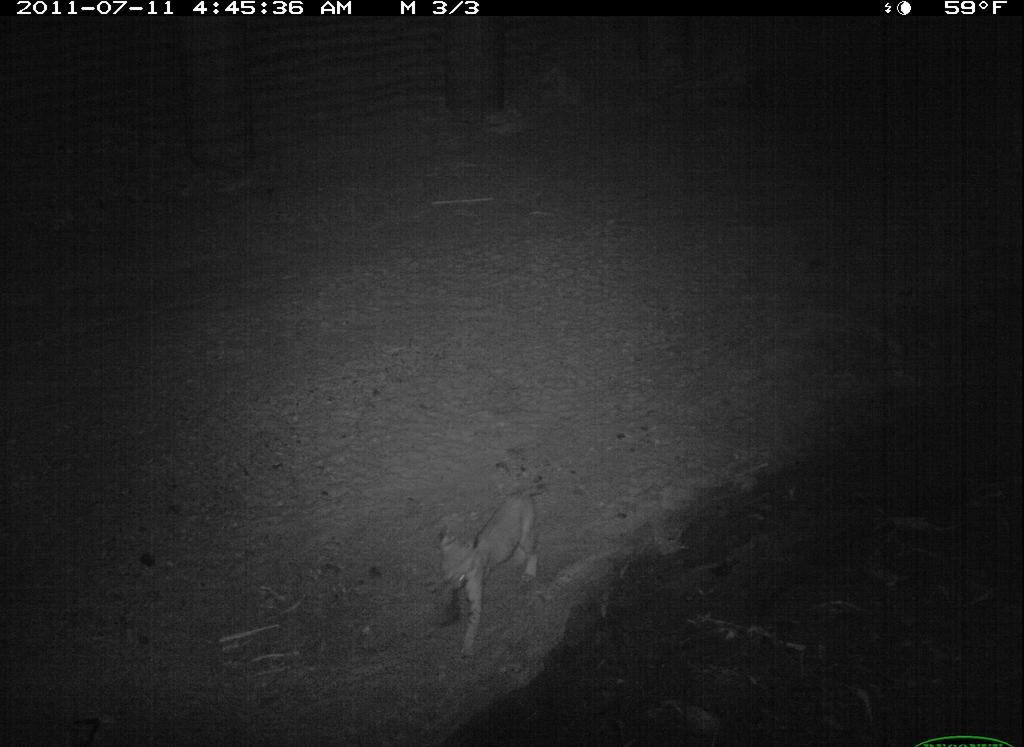bobcat: (428, 466, 557, 673)
